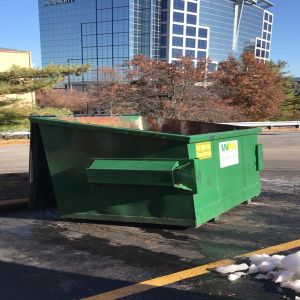Dumpster: (26, 113, 269, 235)
